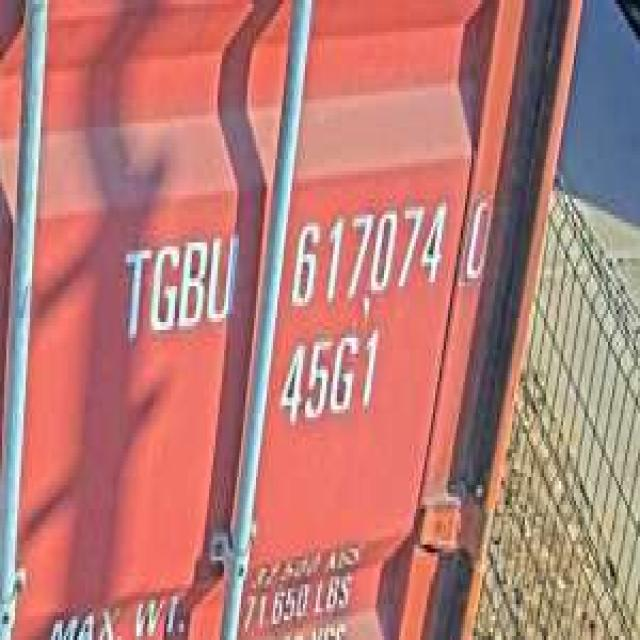dv: (459, 188, 495, 292)
owner: (117, 222, 239, 346)
serial: (284, 195, 448, 310)
size: (275, 322, 384, 429)
